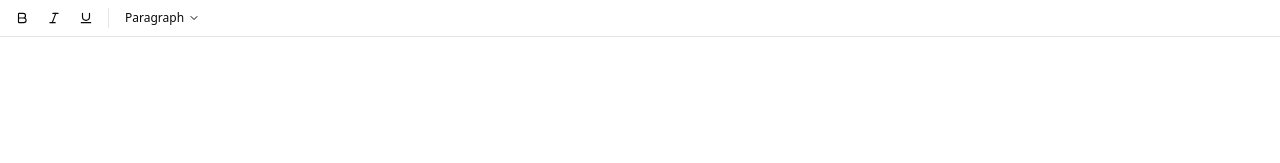
Test: WysiwygToolbar › heading dropdown shows title, subtitle, and paragraph options
The image size is (1280, 163).
Click the button with aria-label "Heading style": point(163, 18) [117,4,208,32]
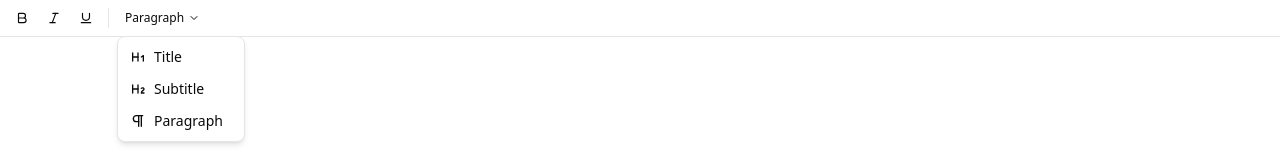
Expected: the number of menu items is 3, [130,47,182,66]; [130,79,204,98]; [130,111,223,130]
Expected: the menu item "Title" is shown, [130,47,182,66]
Expected: the menu item "Subtitle" is shown, [130,79,204,98]
